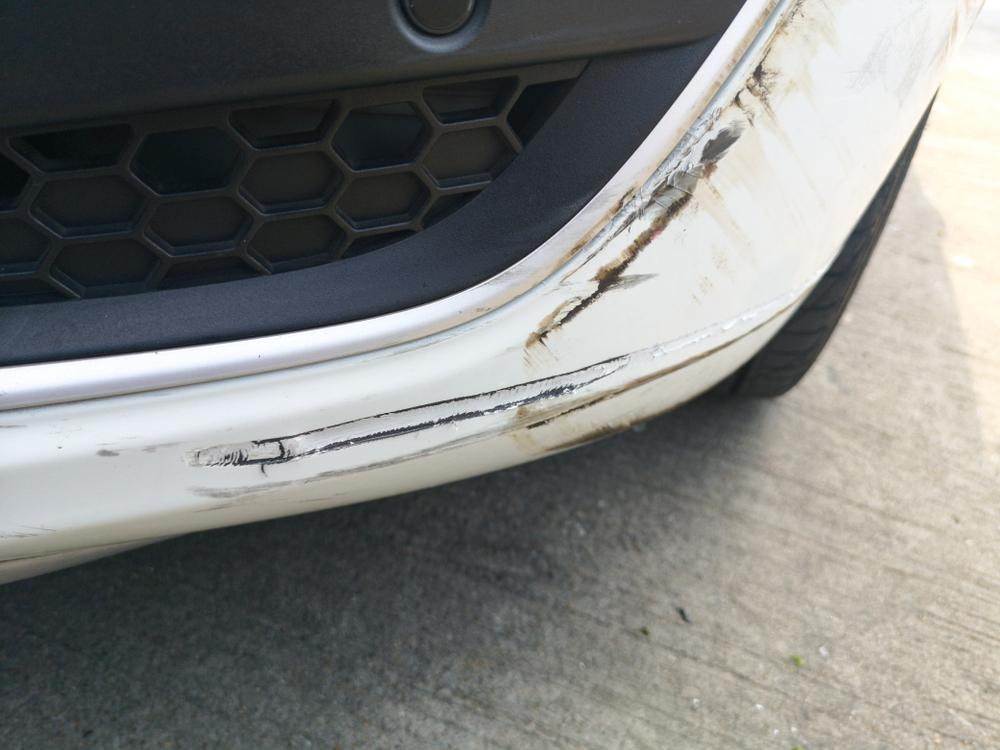scratch: (172, 10, 819, 508)
